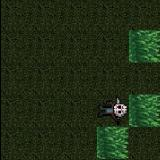Jason: (96, 95, 128, 127)
Slow: (128, 29, 160, 62), (96, 127, 128, 159), (128, 95, 160, 126)
